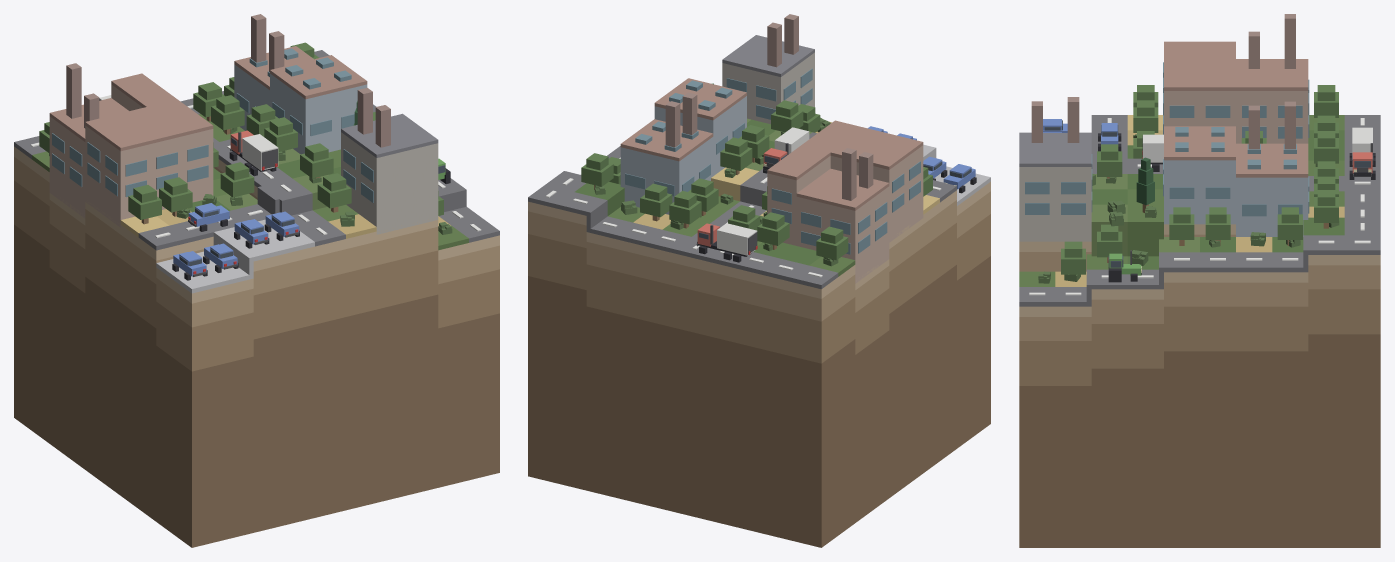
File: block_10_engineered_35.glb
The picture shows the model from 3 angles, left to right: view 1: azimuth 30°, elevation 25°; view 2: azimuth 150°, elevation 25°; view 3: azimuth 270°, elevation 25°; orthographic projection. The views are drawn at different scales.
Parts seen in each view (by area): view 1: Patch_LowerLeft_b10_ES, Factories_LowerLeft_b10_ES, Roads_LowerLeft_b10_ES, Ground_LowerLeft_b10_ES, Parking_LowerLeft_b10_ES, Asset_Truck.003_ES, Asset_Tree_Round.061_ES, Asset_Tree_Round.047_ES, Asset_Tree_Round.036_ES, Asset_Tree_Round.049_ES, Asset_Tree_Round.057_ES, Asset_Tree_Round.048_ES (+8 smaller); view 2: Patch_LowerLeft_b10_ES, Factories_LowerLeft_b10_ES, Roads_LowerLeft_b10_ES, Ground_LowerLeft_b10_ES, Asset_Truck.002_ES, Asset_Truck.003_ES, Asset_Tree_Round.027_ES, Asset_Tree_Round.028_ES, Asset_Tree_Round.042_ES, Asset_Tree_Round.025_ES, Asset_Tree_Round.029_ES, Asset_Tree_Round.024_ES (+7 smaller); view 3: Patch_LowerLeft_b10_ES, Factories_LowerLeft_b10_ES, Roads_LowerLeft_b10_ES, Ground_LowerLeft_b10_ES, Asset_Truck.002_ES, RoadLines_LowerLeft_b10_ES, Asset_Tree_Round.045_ES, Asset_Tree_Round.029_ES, Asset_Tree_Round.037_ES, Asset_Tree_Round.043_ES, Asset_Tree_Round.057_ES, Asset_Tree_Round.062_ES (+8 smaller).
Boxes of the visible parts, left/top/right/bottom form: Patch_LowerLeft_b10_ES: left=14, top=146, right=499, bottom=547; Factories_LowerLeft_b10_ES: left=49, top=14, right=438, bottom=234; Roads_LowerLeft_b10_ES: left=14, top=50, right=499, bottom=250; Ground_LowerLeft_b10_ES: left=32, top=114, right=468, bottom=250; Parking_LowerLeft_b10_ES: left=156, top=219, right=314, bottom=293; Asset_Truck.003_ES: left=229, top=130, right=278, bottom=176; Asset_Tree_Round.061_ES: left=317, top=173, right=351, bottom=212; Asset_Tree_Round.047_ES: left=128, top=185, right=161, bottom=224; Asset_Tree_Round.036_ES: left=211, top=95, right=244, bottom=134; Asset_Tree_Round.049_ES: left=220, top=162, right=254, bottom=197; Asset_Tree_Round.057_ES: left=300, top=143, right=333, bottom=178; Asset_Tree_Round.048_ES: left=159, top=177, right=192, bottom=216; Patch_LowerLeft_b10_ES: left=528, top=181, right=990, bottom=547; Factories_LowerLeft_b10_ES: left=620, top=14, right=923, bottom=283; Roads_LowerLeft_b10_ES: left=528, top=132, right=956, bottom=289; Ground_LowerLeft_b10_ES: left=575, top=118, right=939, bottom=276; Asset_Truck.002_ES: left=696, top=223, right=757, bottom=262; Asset_Truck.003_ES: left=763, top=127, right=809, bottom=173; Asset_Tree_Round.027_ES: left=669, top=190, right=701, bottom=228; Asset_Tree_Round.028_ES: left=640, top=183, right=672, bottom=221; Asset_Tree_Round.042_ES: left=720, top=137, right=752, bottom=174; Asset_Tree_Round.025_ES: left=757, top=212, right=789, bottom=249; Asset_Tree_Round.029_ES: left=581, top=153, right=613, bottom=189; Asset_Tree_Round.024_ES: left=816, top=226, right=848, bottom=260; Patch_LowerLeft_b10_ES: left=1019, top=224, right=1380, bottom=547; Factories_LowerLeft_b10_ES: left=1019, top=14, right=1309, bottom=241; Roads_LowerLeft_b10_ES: left=1019, top=115, right=1380, bottom=306; Ground_LowerLeft_b10_ES: left=1019, top=115, right=1344, bottom=286; Asset_Truck.002_ES: left=1349, top=127, right=1375, bottom=179; RoadLines_LowerLeft_b10_ES: left=1029, top=118, right=1370, bottom=295; Asset_Tree_Round.045_ES: left=1169, top=207, right=1194, bottom=245; Asset_Tree_Round.029_ES: left=1314, top=190, right=1338, bottom=228; Asset_Tree_Round.037_ES: left=1277, top=207, right=1302, bottom=245; Asset_Tree_Round.043_ES: left=1205, top=207, right=1230, bottom=245; Asset_Tree_Round.057_ES: left=1097, top=144, right=1122, bottom=178; Asset_Tree_Round.062_ES: left=1061, top=241, right=1085, bottom=274.
Bounding box in the file's own units: 9.52 × 11.46 × 9.5.
